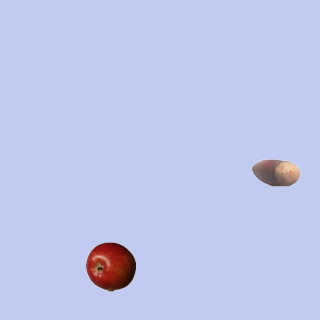Apple Braeburn: (85, 241, 135, 291)
Hazelnut: (250, 147, 300, 197)
